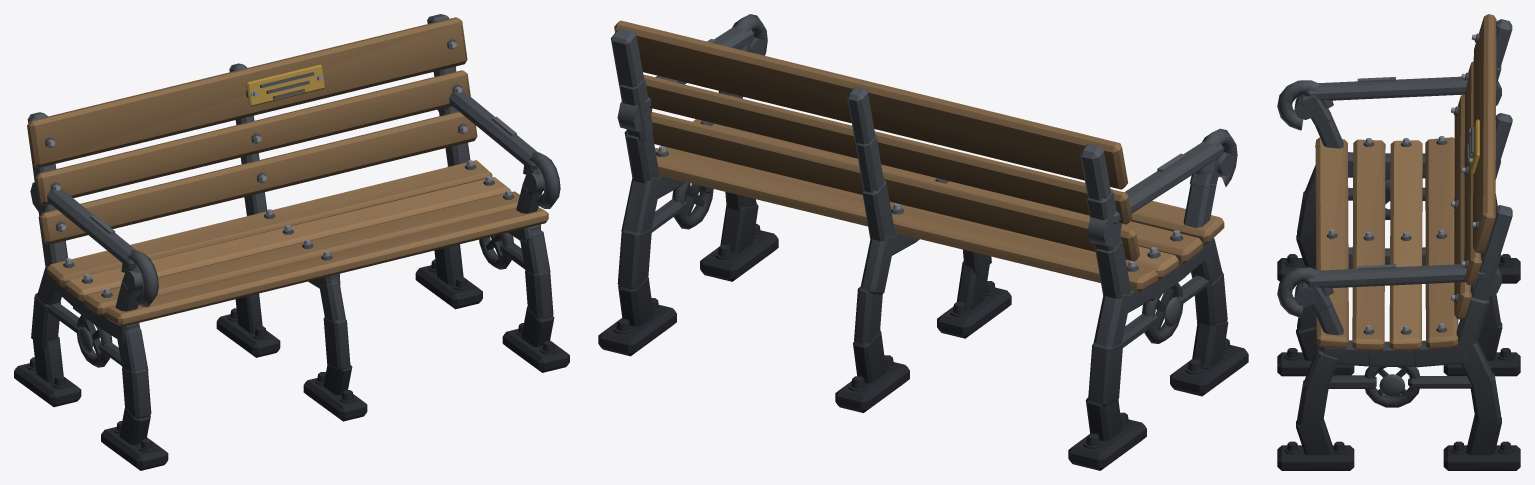
The model's file is bench-01.glb.
The picture shows the model from 3 angles, left to right: view 1: azimuth 30°, elevation 25°; view 2: azimuth 150°, elevation 25°; view 3: azimuth 270°, elevation 25°; orthographic projection. The views are drawn at different scales.
Visible parts, largest first — view 1: bench_01; view 2: bench_01; view 3: bench_01.
Boxes of the visible parts, x1,y1,x2,y2 form: bench_01: [14, 14, 569, 470]; bench_01: [598, 14, 1248, 470]; bench_01: [1277, 14, 1520, 470].
Size of the model in its own units: 1.55 by 0.9265 by 0.7909.
